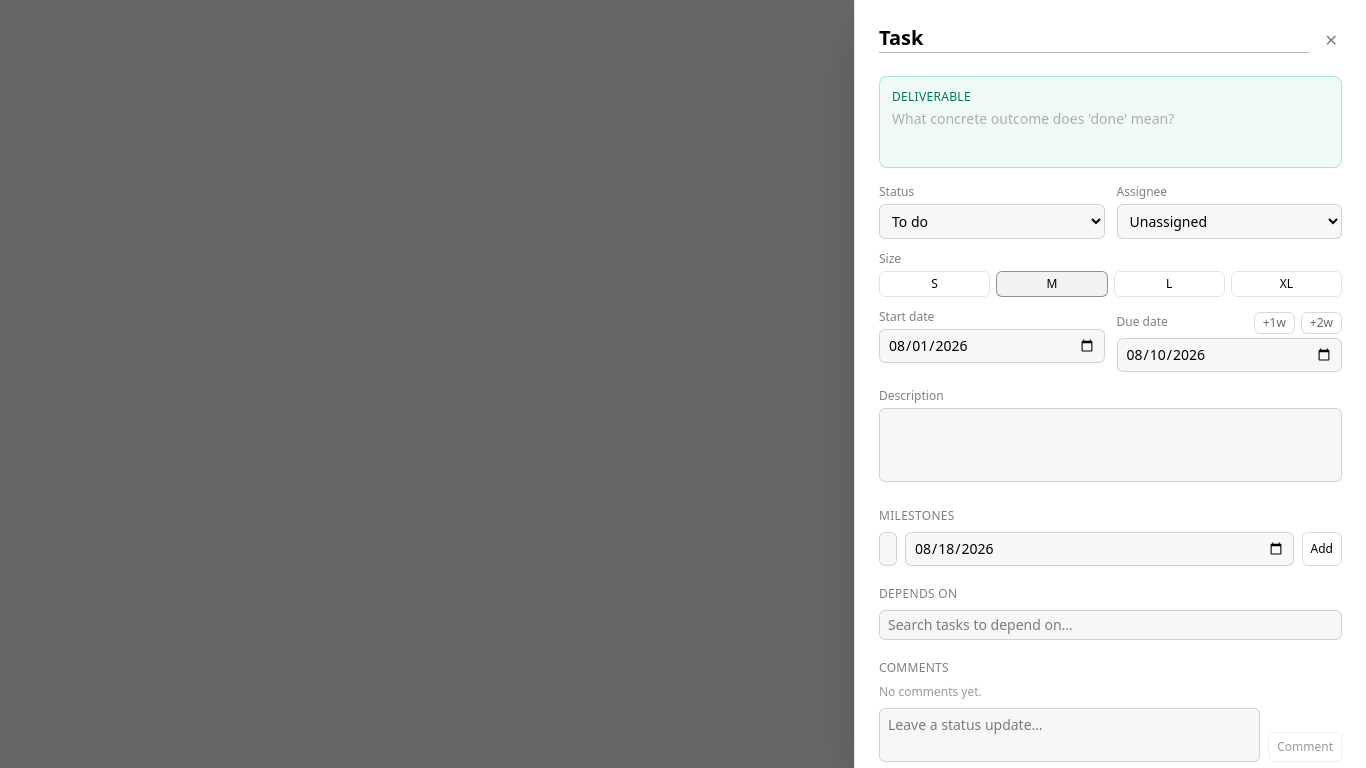
Test case: TaskDetailDrawer — start date is reachable at all (PLAN-V2 P2.1) › warns before a start date silently drags the due date along with it
Type "2026-08-15" into the date field showing "2026-08-01" below "Start date".
click(992, 346); type("2026-08-15")  # box [879, 329, 1104, 363]
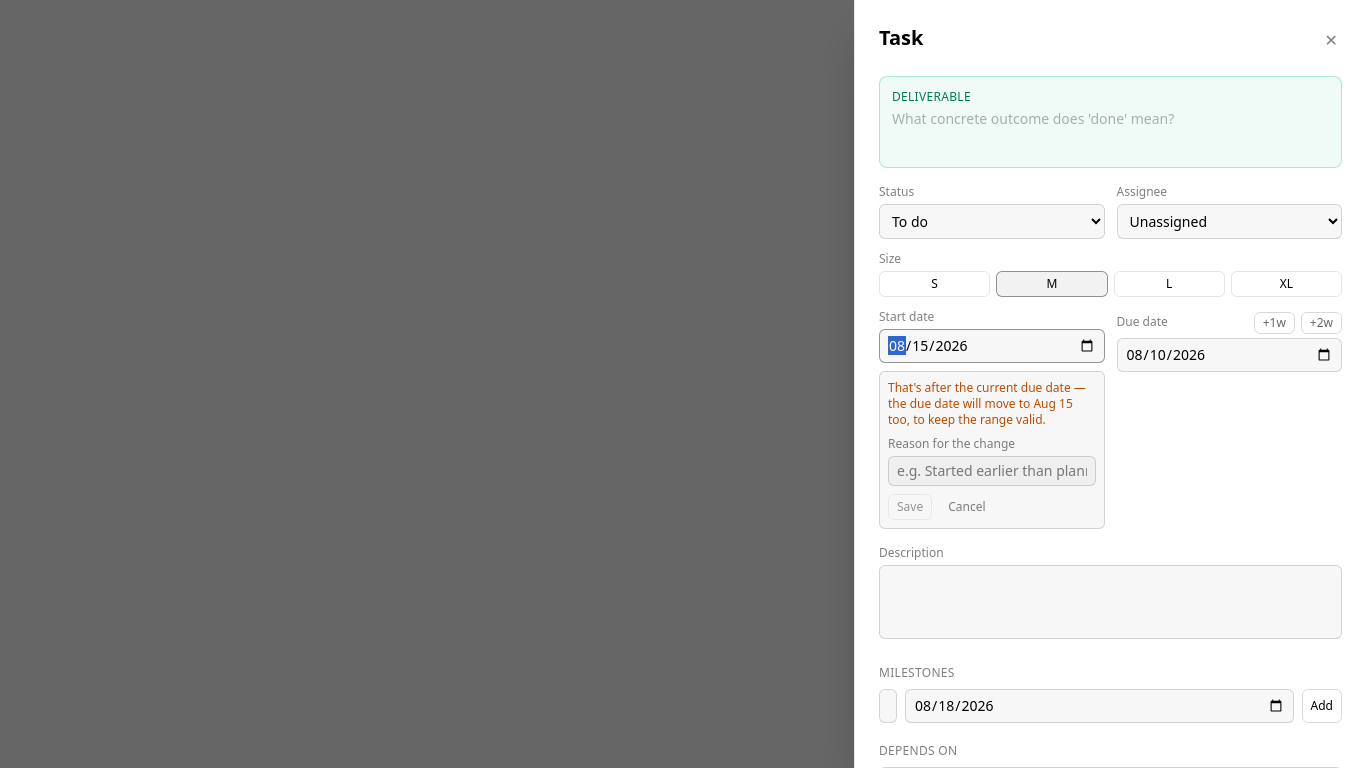
Check: the text "after the current due date" is shown, box [888, 379, 1086, 412]
